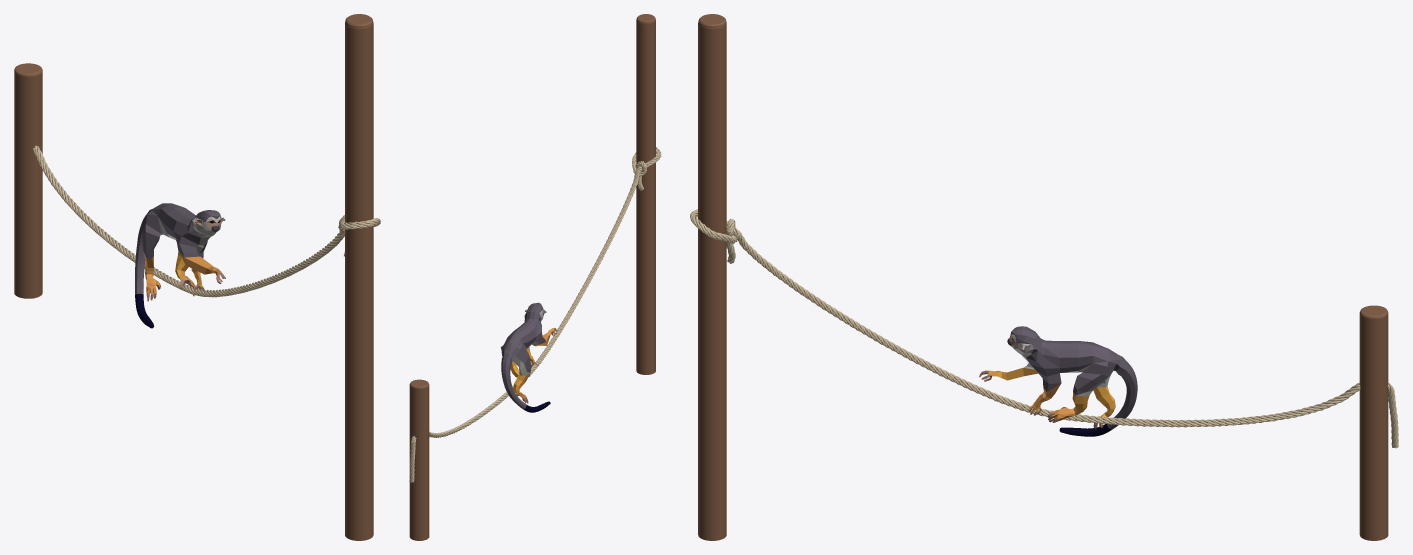
File: nm__squirrelmonkey.glb
The picture shows the model from 3 angles, left to right: view 1: azimuth 30°, elevation 25°; view 2: azimuth 150°, elevation 25°; view 3: azimuth 270°, elevation 25°; orthographic projection. The views are drawn at different scales.
Parts seen in each view (by area): view 1: Cylinder.001_2, Cylinder_1, Cube.001_0, Circle_3; view 2: Cylinder.001_2, Cylinder_1, Cube.001_0, Circle_3; view 3: Cylinder.001_2, Cube.001_0, Cylinder_1, Circle_3.
Boxes of the visible parts, left/top/right/bottom form: Cylinder.001_2: left=345, top=14, right=373, bottom=540; Cylinder_1: left=14, top=63, right=42, bottom=298; Cube.001_0: left=135, top=203, right=225, bottom=328; Circle_3: left=32, top=145, right=380, bottom=297; Cylinder.001_2: left=636, top=14, right=655, bottom=374; Cylinder_1: left=409, top=379, right=429, bottom=540; Cube.001_0: left=500, top=302, right=557, bottom=412; Circle_3: left=409, top=147, right=661, bottom=482; Cylinder.001_2: left=698, top=14, right=726, bottom=540; Cube.001_0: left=979, top=326, right=1137, bottom=436; Cylinder_1: left=1359, top=305, right=1388, bottom=540; Circle_3: left=690, top=209, right=1398, bottom=448.
Size of the model in its own units: 4.57 by 39.77 by 49.54.
